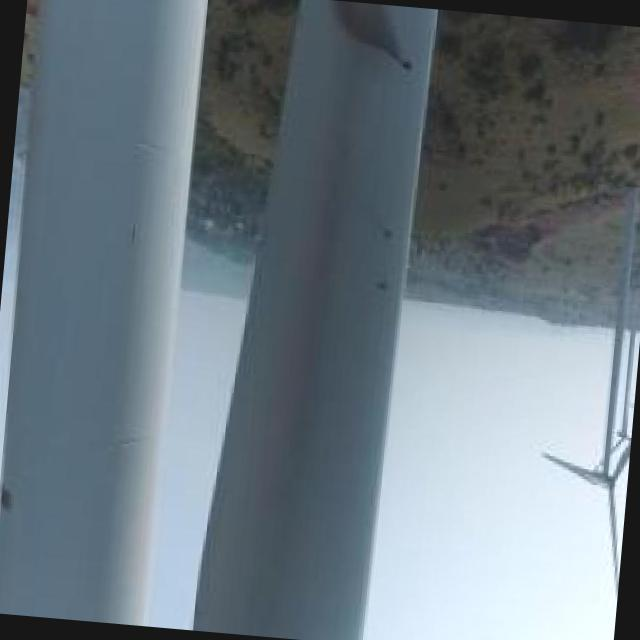Dirt: (331, 0, 404, 61)
Pin Hole: (400, 56, 414, 74), (376, 278, 387, 296), (384, 225, 390, 243)
